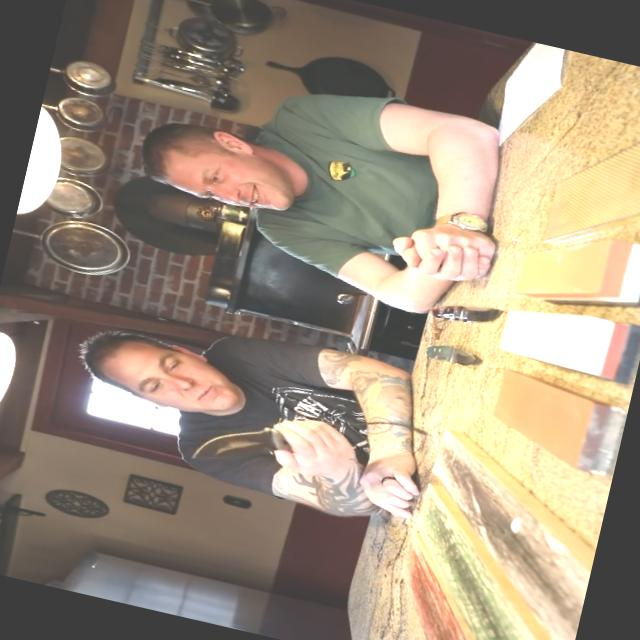knife: (177, 390, 324, 490)
